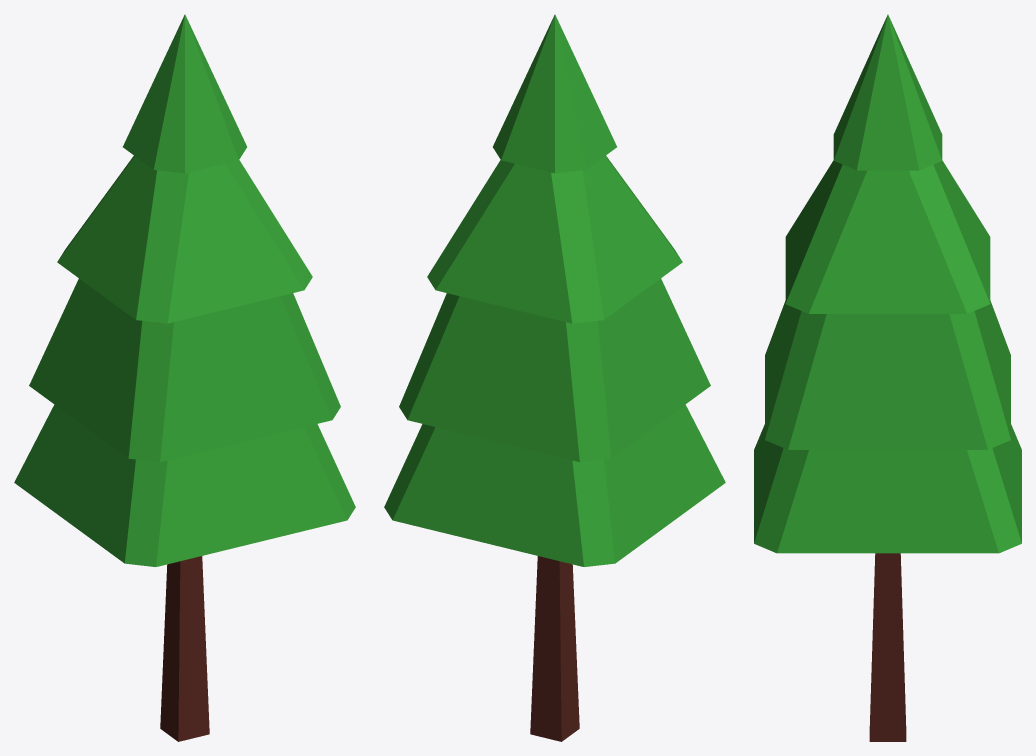
Rendered from tree2.fbx.
The picture shows the model from 3 angles, left to right: view 1: azimuth 30°, elevation 25°; view 2: azimuth 150°, elevation 25°; view 3: azimuth 270°, elevation 25°; orthographic projection.
Visible parts, largest first — view 1: Cube.000; view 2: Cube.000; view 3: Cube.000.
Part boxes in pixels (x1=…): Cube.000: x1=14, y1=14, x2=355, y2=741; Cube.000: x1=384, y1=14, x2=725, y2=741; Cube.000: x1=754, y1=14, x2=1021, y2=741.
Size of the model in its own units: 235 by 697 by 235.
